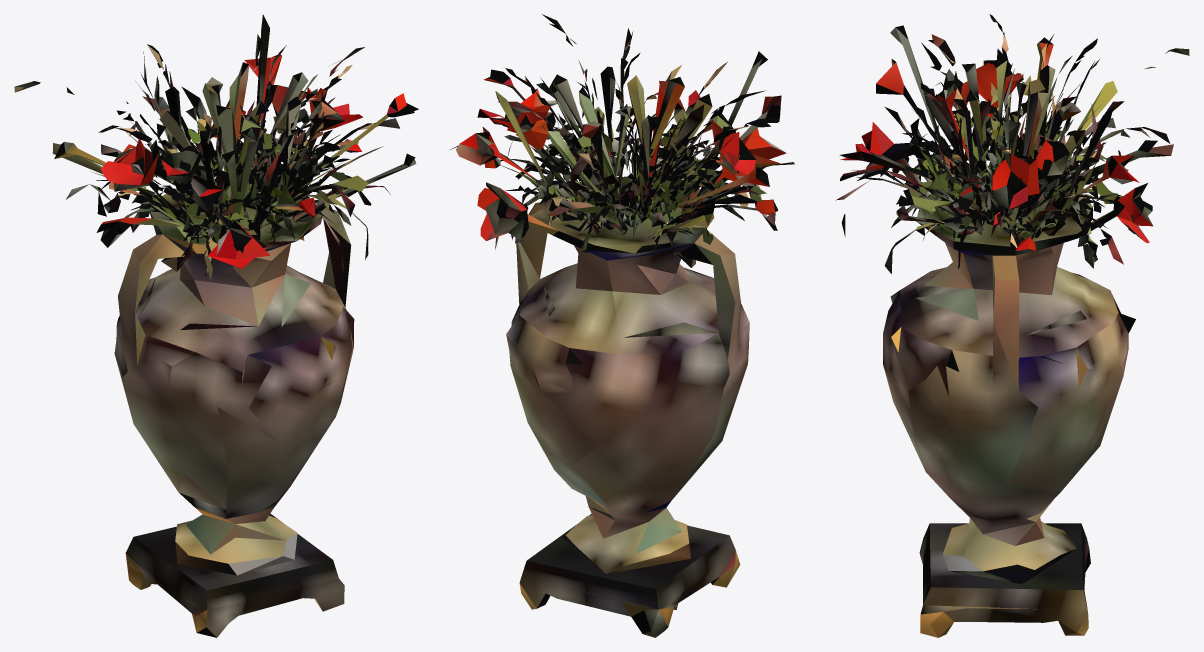
The model's file is P10_poppy_urn_game.glb.
3 views of the same model, side by side, from view 1: azimuth 30°, elevation 25°; view 2: azimuth 150°, elevation 25°; view 3: azimuth 270°, elevation 25° (orthographic). The views are drawn at different scales.
Visible parts, largest first — view 1: P10_poppy_urn; view 2: P10_poppy_urn; view 3: P10_poppy_urn.
Part boxes in pixels (box(x1,y1,x2,y2)): P10_poppy_urn: box(14, 14, 418, 637); P10_poppy_urn: box(450, 14, 794, 637); P10_poppy_urn: box(836, 14, 1189, 637).
Size of the model in its own units: 0.6012 by 0.942 by 0.544.
Materials: 1 (1 with a texture image).
